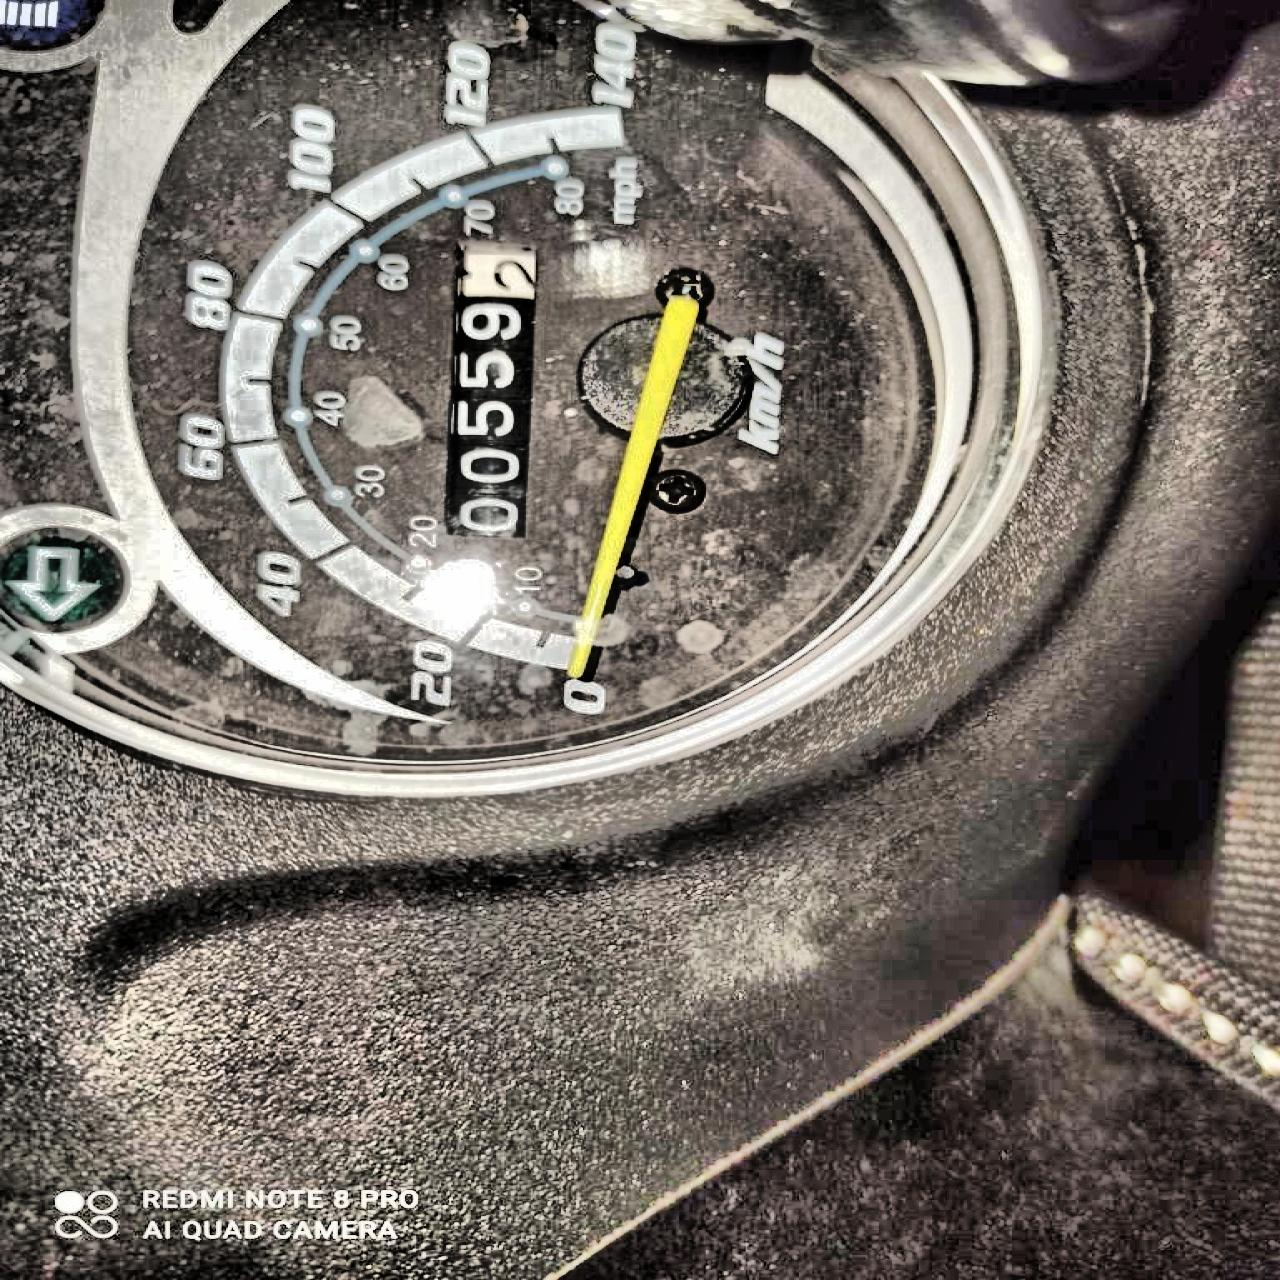0: (455, 445, 524, 485), (452, 492, 520, 532)
2: (486, 252, 543, 293)
5: (449, 349, 520, 389), (448, 399, 512, 436)
9: (455, 300, 524, 341)
odometer: (435, 233, 554, 532)
